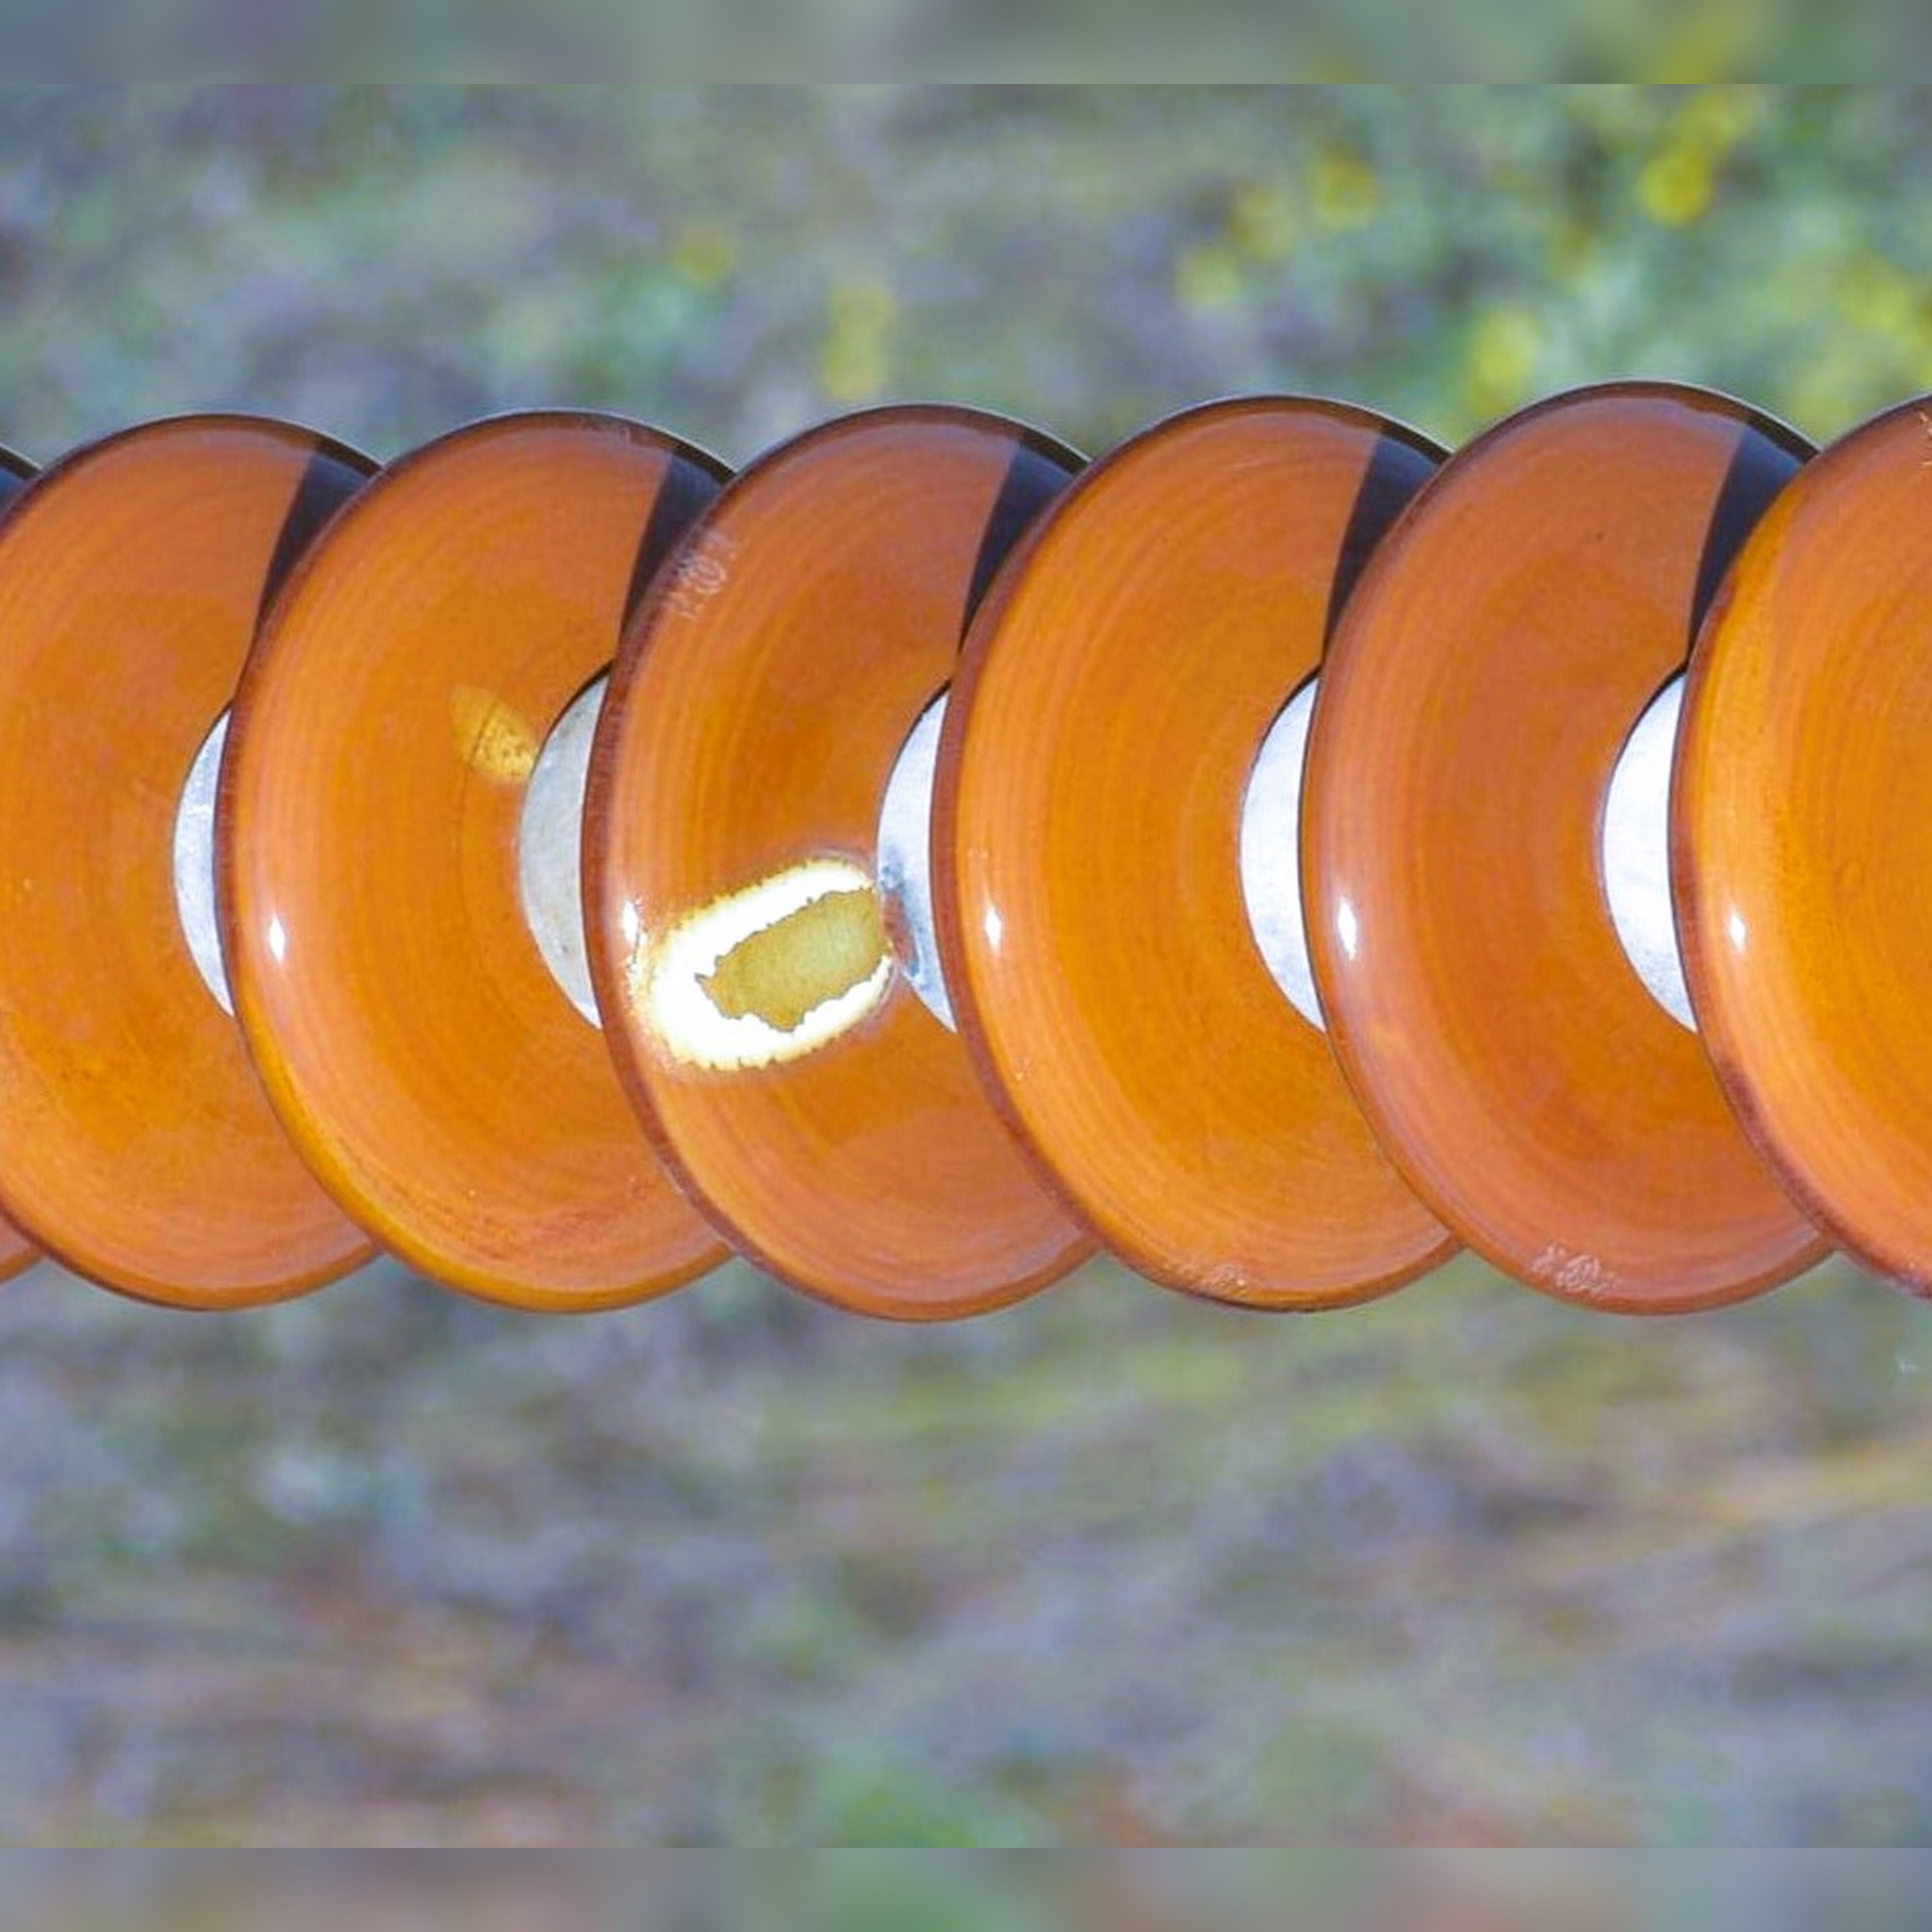Insulator flashover: (573, 386, 1154, 1341)
